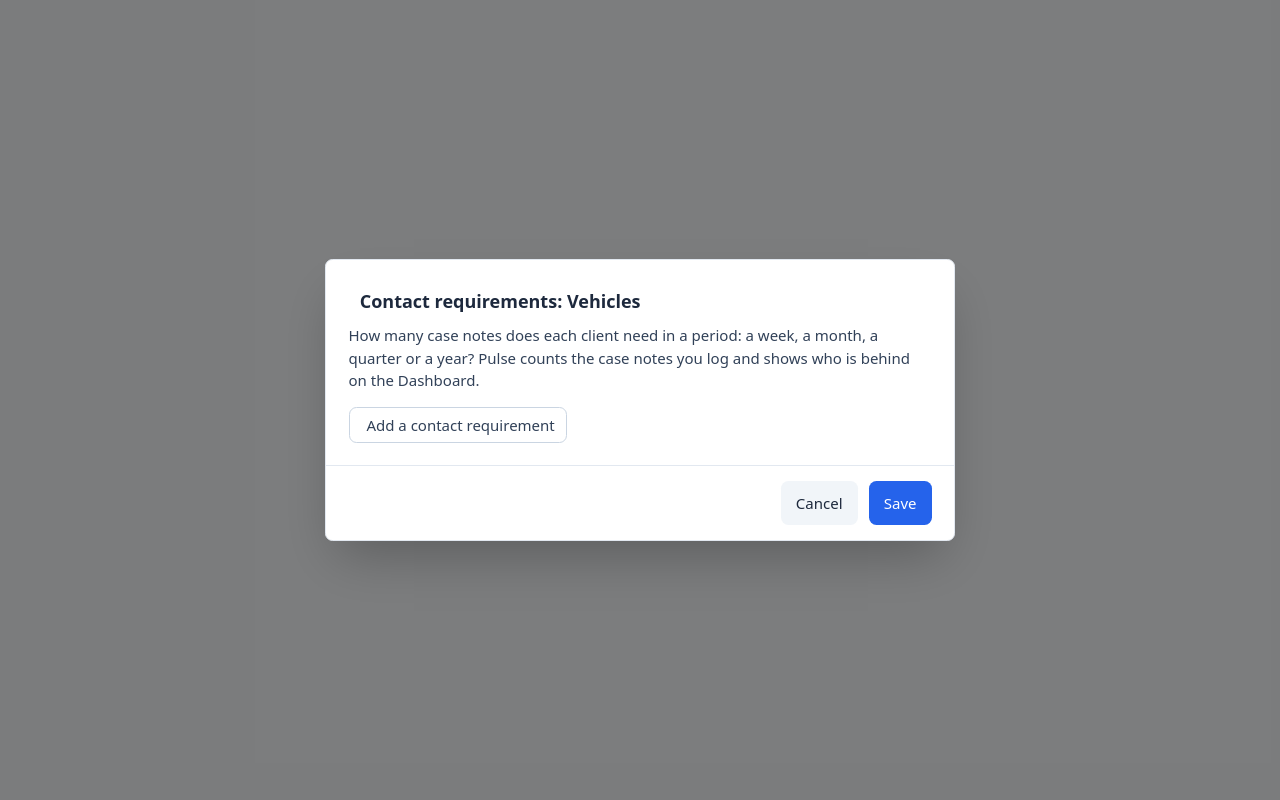
ContactRequirementsDialog › offers a button to add the first requirement when there are no suggestions
The width and height of the screenshot is (1280, 800).
What coordinates should you click on to do the following:
click the button "Add a contact requirement"
I would click on:
 (458, 425)
Its box is [348,407,567,443].
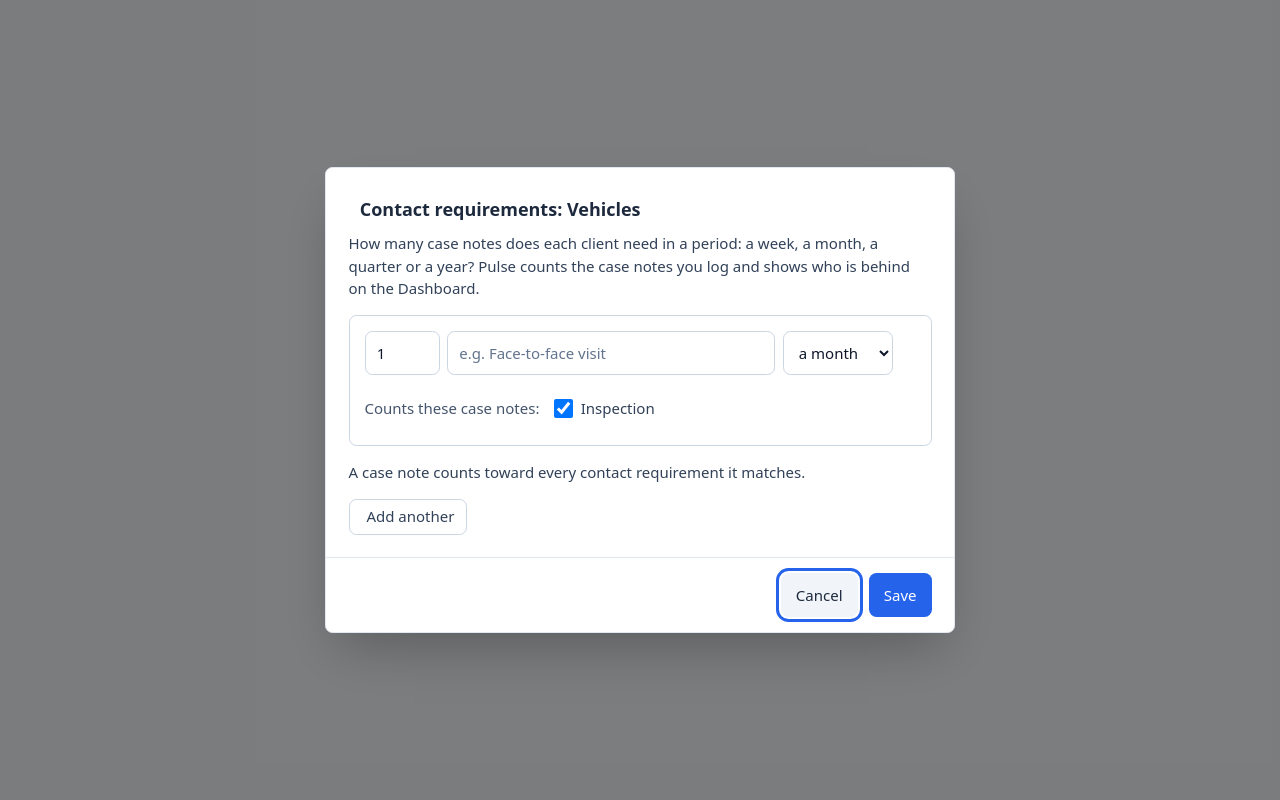
Expected: the field named "Name" is shown, [447,331,775,375]
Expected: the button "Add another" is shown, [348,499,467,535]
